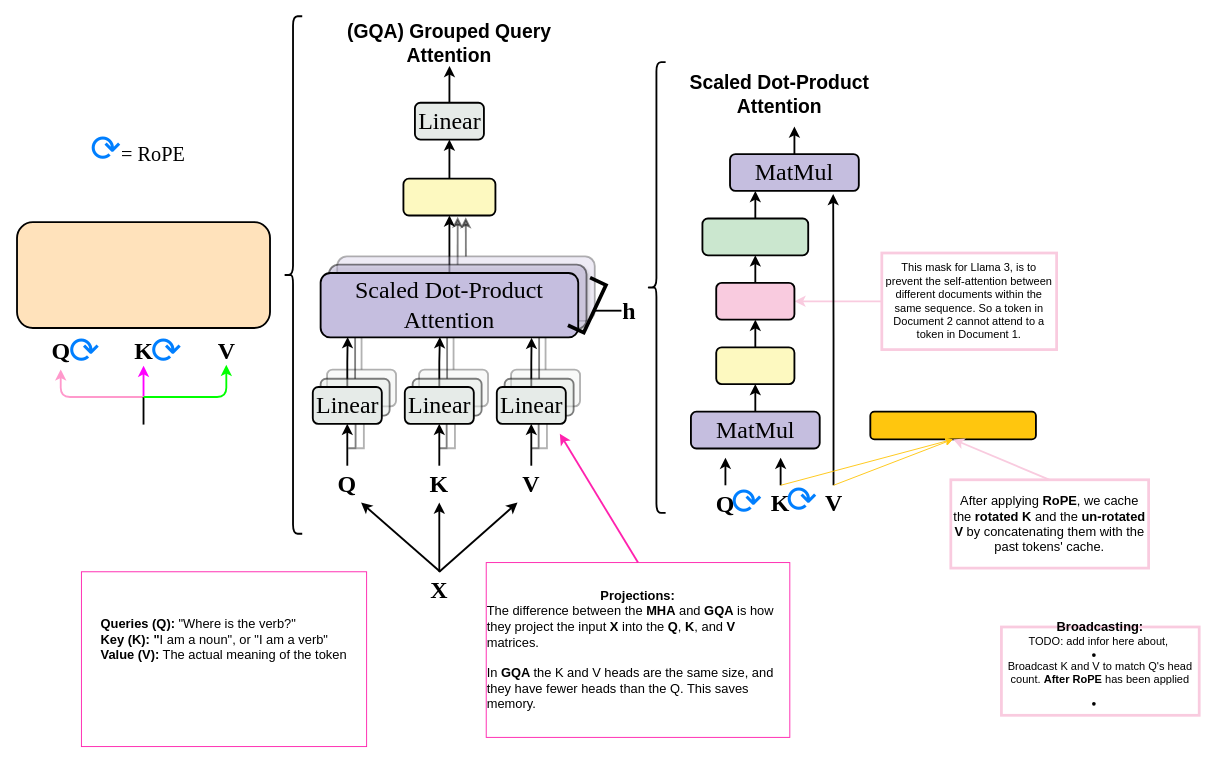
Image size: 1216x764. Some labels were removed from this diagram. The centre of each missing label's shape, as x and y in pixels:
"ConCat" belongs at (449,196).
"GQA Self-Attention (During inference KV is Cached)" belongs at (143,274).
"KV Cache (Inference only) :" belongs at (952,425).
"Mask" belongs at (755,301).
"Scale" belongs at (755,365).
"SoftMax" belongs at (755,236).
